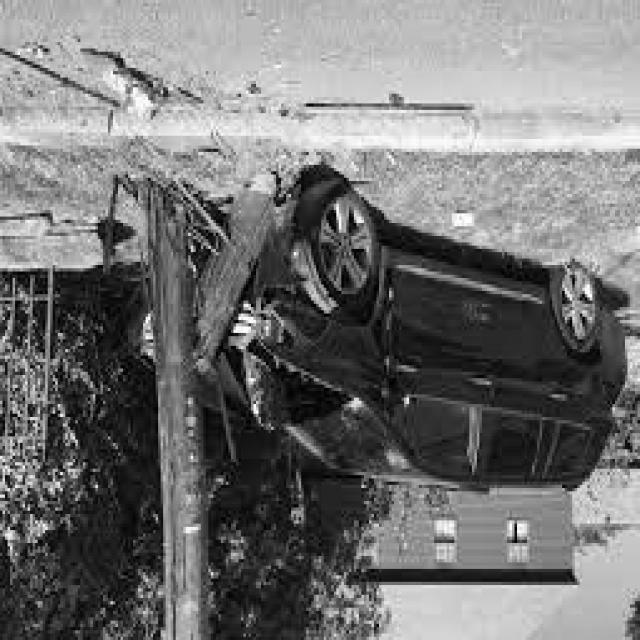moderate: (125, 167, 630, 516)
